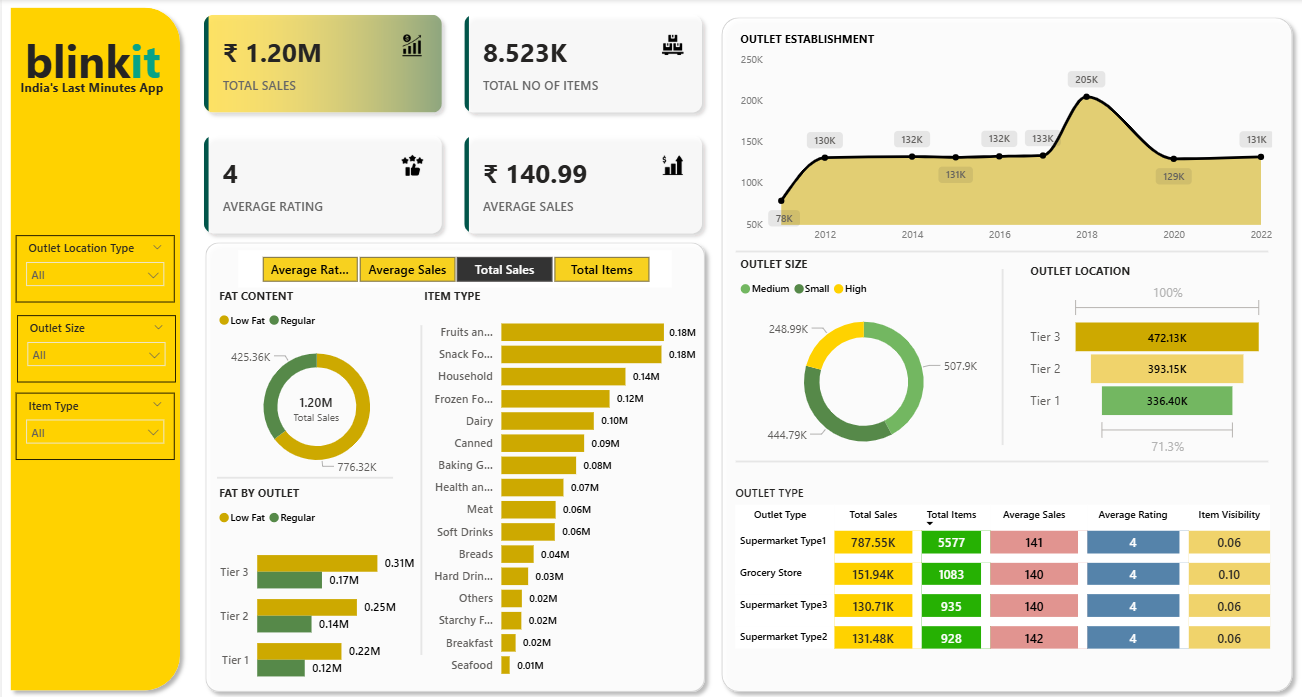

The page's visual inventory and layout, read from the dashboard file:
{"tool":"powerbi","page":{"name":"Page 1","canvas":[1400,800],"ordinal":0},"visuals":[{"type":"shape","box":[0,0,200,750.6],"z":0},{"type":"textbox","box":[14.7,28.2,164.9,76.4],"z":1000},{"type":"textbox","box":[14.7,80.4,163.5,30.8],"z":2000},{"type":"cardVisual","fields":{"Data":["BlinkIT Grocery Data.total salees","BlinkIT Grocery Data.total items","BlinkIT Grocery Data.avg rating","BlinkIT Grocery Data.average sales"]},"box":[199.7,0,569.7,269.4],"z":3000},{"type":"shape","box":[209.1,252,553.6,500],"z":4000},{"type":"donutChart","title":"FAT CONTENT","fields":{"Y":["BlinkIT Grocery Data.Total Sales"],"Category":["BlinkIT Grocery Data.Item Fat Content"]},"box":[227.9,309.7,219.8,211.8],"z":5000},{"type":"slicer","fields":{"Values":["Matrics.Matrics"]},"box":[253.4,269.4,465.1,40.2],"z":6000},{"type":"cardVisual","fields":{"Data":["BlinkIT Grocery Data.Total Sales"]},"box":[281.5,399.5,111.3,79.1],"z":7000},{"type":"clusteredBarChart","title":"FAT BY OUTLET","fields":{"Y":["BlinkIT Grocery Data.Total Sales"],"Category":["BlinkIT Grocery Data.Outlet Location Type"],"Series":["BlinkIT Grocery Data.Item Fat Content"]},"box":[227.9,521.5,219.8,230.6],"z":8000},{"type":"shape","box":[230.6,494.6,189,37.5],"z":9000},{"type":"shape","box":[407.5,349.9,84.5,353.9],"z":10000},{"type":"barChart","title":"ITEM TYPE","fields":{"Y":["BlinkIT Grocery Data.Total Sales"],"Category":["BlinkIT Grocery Data.Item Type"]},"box":[447.7,309.7,301.6,429],"z":11000},{"type":"shape","box":[762.7,10.7,630,741.3],"z":12000},{"type":"lineChart","title":"OUTLET ESTABLISHMENT","fields":{"Y":["BlinkIT Grocery Data.Total Sales"],"Category":["BlinkIT Grocery Data.Outlet Establishment Year"]},"box":[786.9,34.9,580.4,234.6],"z":13000},{"type":"shape","box":[786.9,252,571,37.5],"z":14000},{"type":"donutChart","title":"OUTLET SIZE","fields":{"Y":["BlinkIT Grocery Data.Total Sales"],"Category":["BlinkIT Grocery Data.Outlet Size"]},"box":[786.9,276.1,275,225],"z":15000},{"type":"shape","box":[1030.8,289.5,84.5,189],"z":16000},{"type":"funnel","title":"OUTLET LOCATION","fields":{"Y":["Sum(BlinkIT Grocery Data.Sales)"],"Category":["BlinkIT Grocery Data.Outlet Location Type"]},"box":[1097.9,282.8,260.1,211.8],"z":17000},{"type":"shape","box":[786.9,483.9,571,24.1],"z":18000},{"type":"pivotTable","title":"OUTLET TYPE","fields":{"Rows":["BlinkIT Grocery Data.Outlet Type"],"Values":["BlinkIT Grocery Data.Total Sales","BlinkIT Grocery Data.Total Items","BlinkIT Grocery Data.Average Sales","BlinkIT Grocery Data.Average Rating","Avg(BlinkIT Grocery Data.Item Visibility)"]},"box":[781.5,521.5,585.8,198.4],"z":19000},{"type":"slicer","fields":{"Values":["BlinkIT Grocery Data.Outlet Location Type"]},"box":[14.7,253.4,170.2,72.4],"z":20000},{"type":"slicer","fields":{"Values":["BlinkIT Grocery Data.Outlet Size"]},"box":[16.1,339.1,170.2,72.4],"z":21000},{"type":"slicer","fields":{"Values":["BlinkIT Grocery Data.Item Type"]},"box":[14.7,422.3,170.2,72.4],"z":22000}]}

Visuals, with their boxes on the page's 1400x800 design canvas (x1, y1, x2, y2). These are canvas units, not pixel positions in the 1302x697 screenshot, which may show the page scaled, cropped or inside an application window:
shape: x1=0 y1=0 x2=200 y2=751
textbox: x1=15 y1=28 x2=180 y2=105
textbox: x1=15 y1=80 x2=178 y2=111
cardVisual - BlinkIT Grocery Data.total salees x BlinkIT Grocery Data.total items: x1=200 y1=0 x2=769 y2=269
shape: x1=209 y1=252 x2=763 y2=752
"FAT CONTENT" donutChart: x1=228 y1=310 x2=448 y2=522
slicer - Matrics.Matrics: x1=253 y1=269 x2=718 y2=310
cardVisual - BlinkIT Grocery Data.Total Sales: x1=282 y1=400 x2=393 y2=479
"FAT BY OUTLET" clusteredBarChart: x1=228 y1=522 x2=448 y2=752
shape: x1=231 y1=495 x2=420 y2=532
shape: x1=408 y1=350 x2=492 y2=704
"ITEM TYPE" barChart: x1=448 y1=310 x2=749 y2=739
shape: x1=763 y1=11 x2=1393 y2=752
"OUTLET ESTABLISHMENT" lineChart: x1=787 y1=35 x2=1367 y2=270
shape: x1=787 y1=252 x2=1358 y2=290
"OUTLET SIZE" donutChart: x1=787 y1=276 x2=1062 y2=501
shape: x1=1031 y1=290 x2=1115 y2=478
"OUTLET LOCATION" funnel: x1=1098 y1=283 x2=1358 y2=495
shape: x1=787 y1=484 x2=1358 y2=508
"OUTLET TYPE" pivotTable: x1=782 y1=522 x2=1367 y2=720
slicer - BlinkIT Grocery Data.Outlet Location Type: x1=15 y1=253 x2=185 y2=326
slicer - BlinkIT Grocery Data.Outlet Size: x1=16 y1=339 x2=186 y2=412
slicer - BlinkIT Grocery Data.Item Type: x1=15 y1=422 x2=185 y2=495
